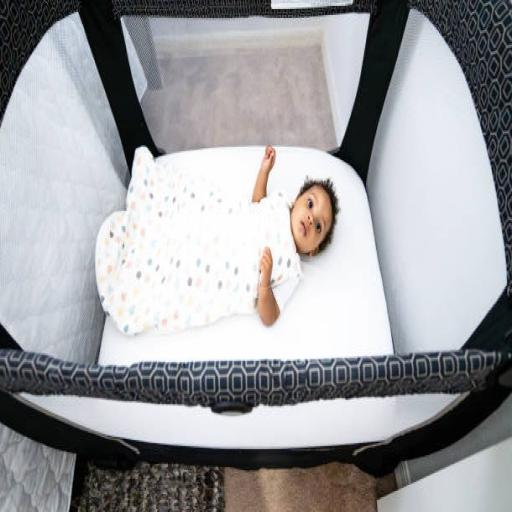baby: (96, 147, 338, 333)
crib: (0, 0, 511, 474)
